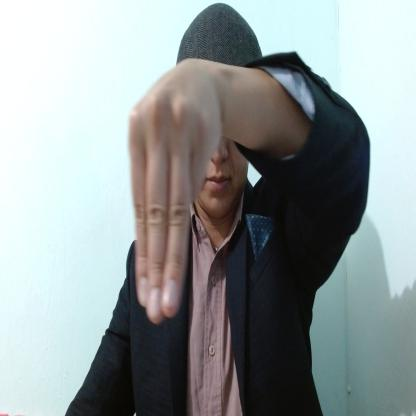M: (128, 62, 224, 322)
